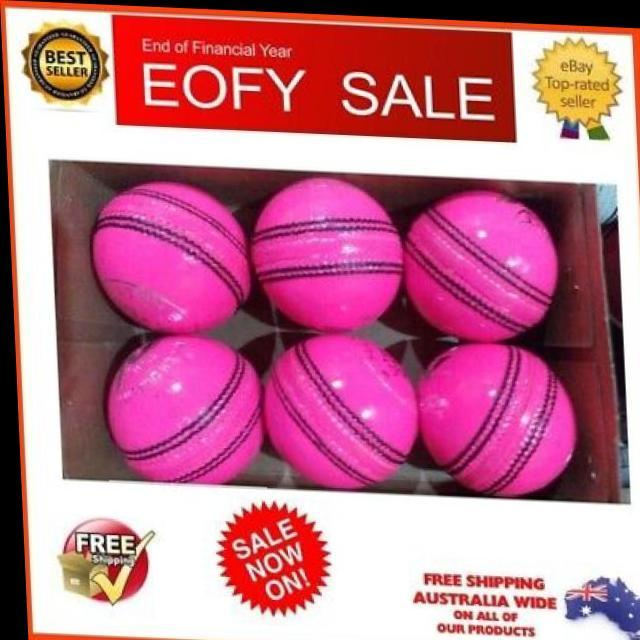cricket ball: (88, 180, 251, 332), (259, 332, 415, 487), (400, 184, 554, 339), (415, 340, 573, 491), (103, 333, 261, 483), (251, 175, 402, 330)
